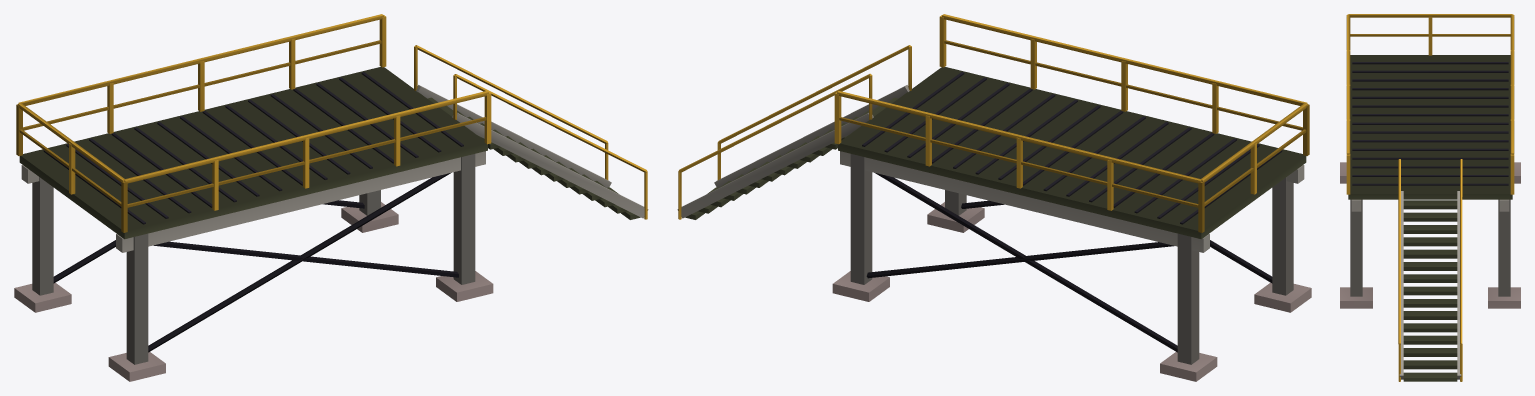
The picture shows the model from 3 angles, left to right: view 1: azimuth 30°, elevation 25°; view 2: azimuth 150°, elevation 25°; view 3: azimuth 270°, elevation 25°; orthographic projection. The views are drawn at different scales.
Visible parts, largest first — view 1: body_pal_picketWhite; view 2: body_pal_picketWhite; view 3: body_pal_picketWhite.
Part boxes in pixels (bbox=[...]): body_pal_picketWhite: bbox=[14, 14, 648, 381]; body_pal_picketWhite: bbox=[677, 14, 1311, 381]; body_pal_picketWhite: bbox=[1340, 14, 1520, 381].
Bounding box in the file's own units: 12.3 × 4.16 × 4.4.
